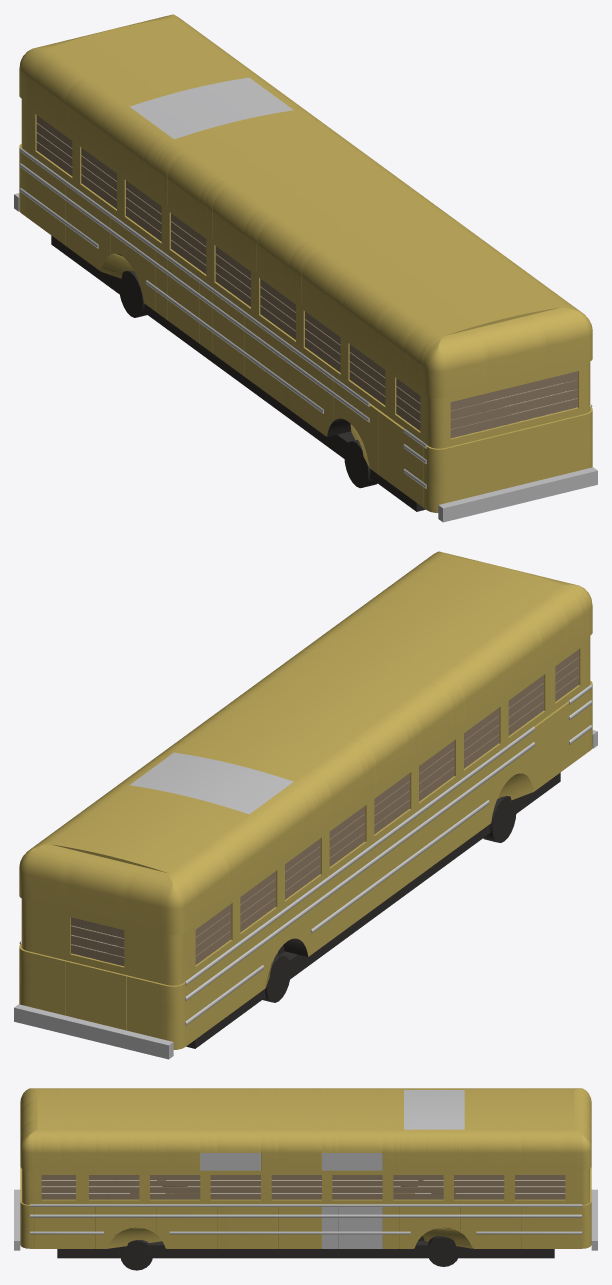
File: Bus.glb
3 renders of one model, top to bottom at view 1: azimuth 30°, elevation 25°; view 2: azimuth 150°, elevation 25°; view 3: azimuth 270°, elevation 25°, orthographic. The views are drawn at different scales.
Parts seen in each view (by area): view 1: Bus.Body, Bus.Boards, Bus.Chassis, Bus.Rails, Bus.BarePanels, Bus.Bumpers; view 2: Bus.Body, Bus.Boards, Bus.Chassis, Bus.Rails, Bus.BarePanels, Bus.Bumpers; view 3: Bus.Body, Bus.Boards, Bus.BarePanels, Bus.Chassis, Bus.Rails, Bus.Bumpers.
Part boxes in pixels (x1,y1,x2,y2): Bus.Body: (19,14,592,512); Bus.Boards: (36,115,577,438); Bus.Chassis: (51,235,498,511); Bus.Rails: (19,148,592,488); Bus.BarePanels: (130,77,293,139); Bus.Bumpers: (14,193,597,522); Bus.Body: (19,551,592,1049); Bus.Boards: (71,649,578,966); Bus.Chassis: (186,772,560,1048); Bus.Rails: (19,685,592,1025); Bus.BarePanels: (130,752,293,814); Bus.Bumpers: (14,730,597,1059); Bus.Body: (20,1088,591,1248); Bus.Boards: (41,1175,565,1199); Bus.BarePanels: (200,1090,464,1248); Bus.Chassis: (57,1193,554,1270); Bus.Rails: (30,1204,581,1234); Bus.Bumpers: (14,1189,597,1250).
Size of what is drawn, in the model's own units: 2.48 by 2.88 by 11.04.
